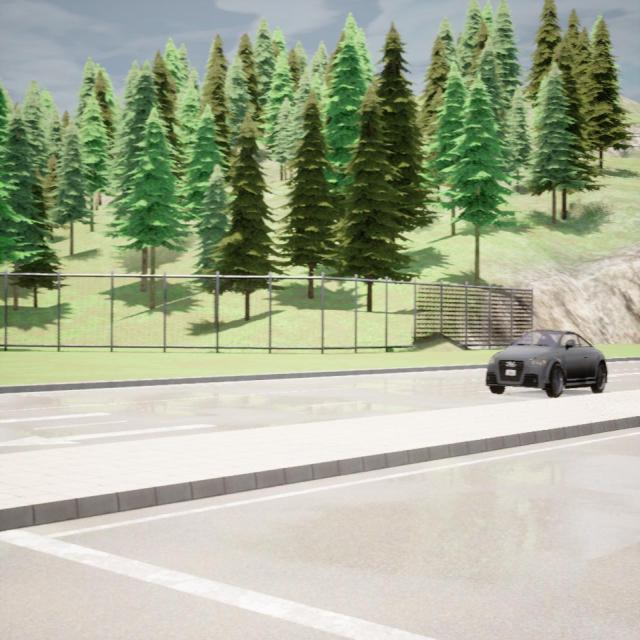Vehicle: (484, 329, 607, 397)
